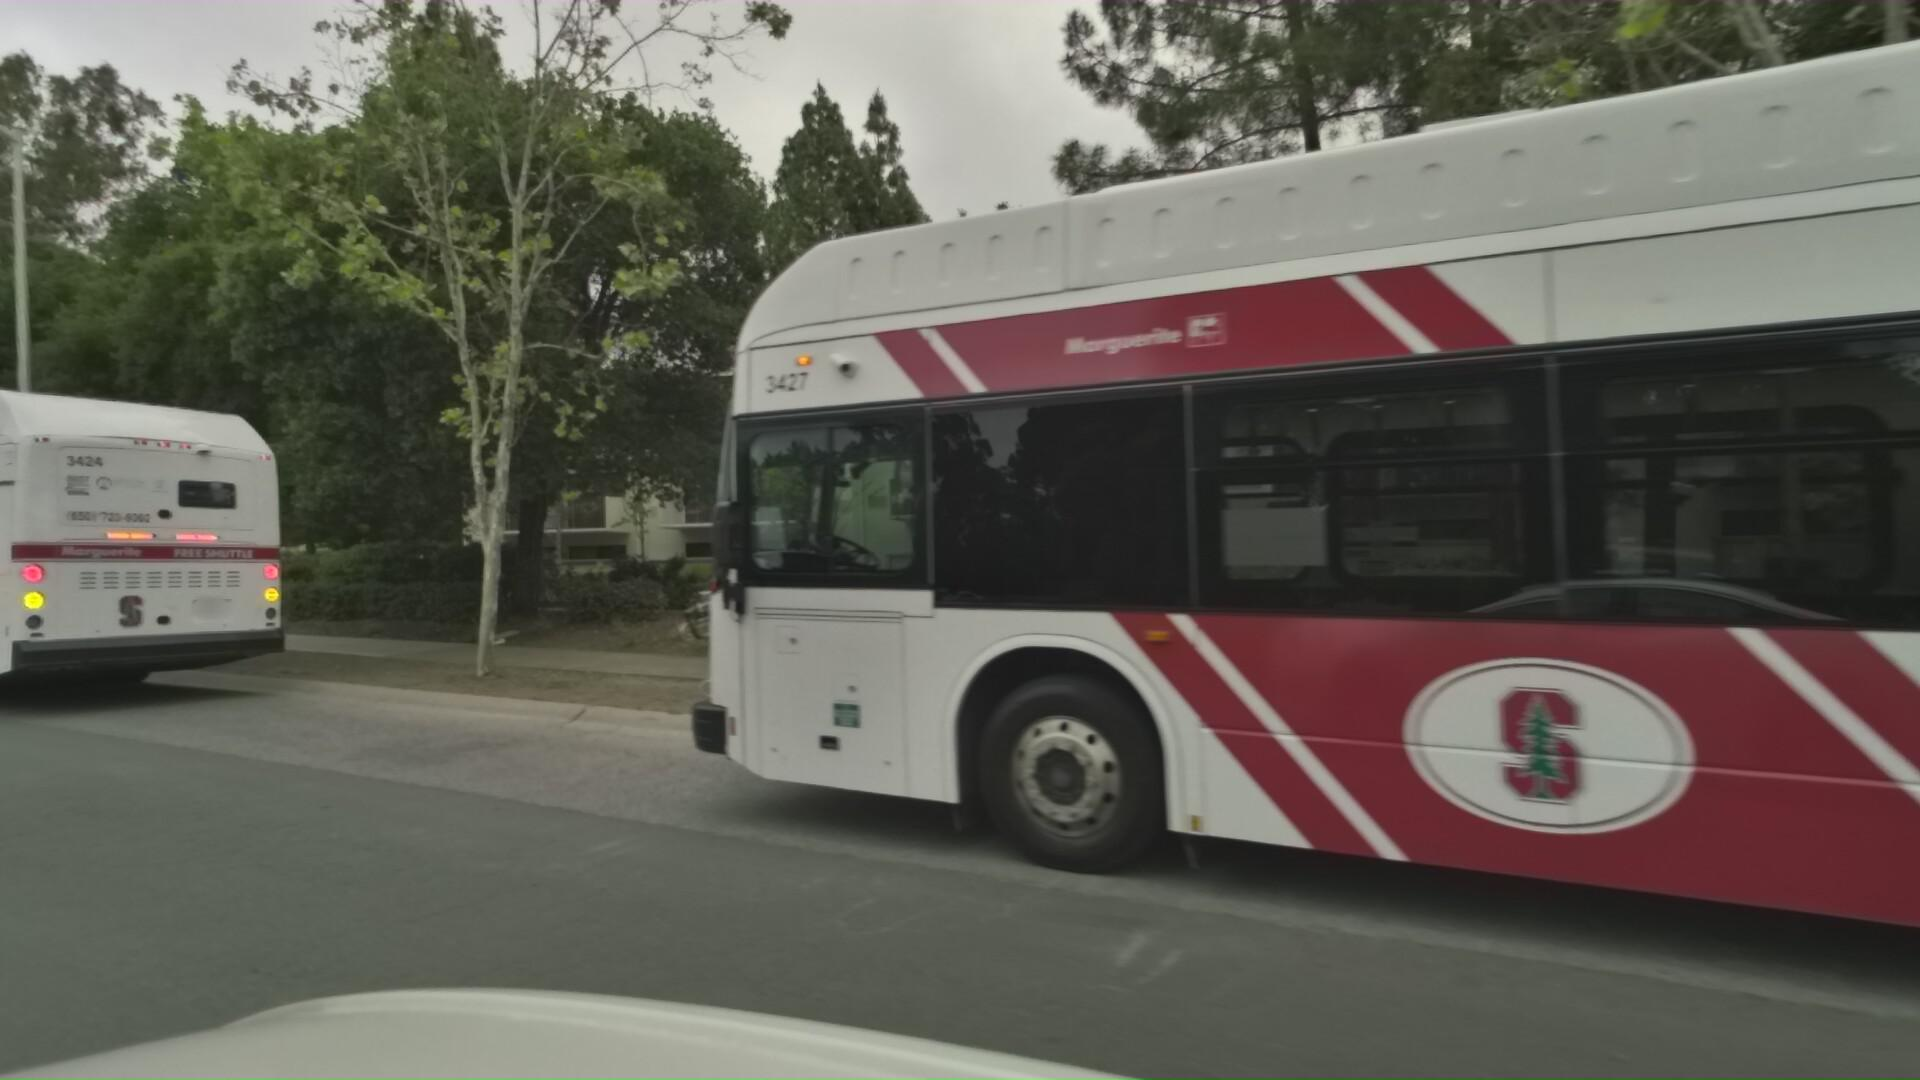bus: (0, 332, 378, 731)
car: (0, 541, 21, 592)
